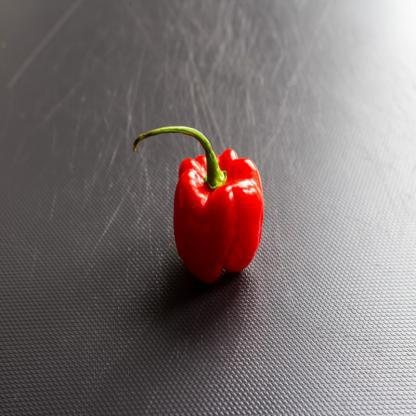capsicum: (122, 102, 294, 304)
